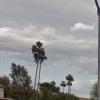Tree: (21, 34, 52, 72)
